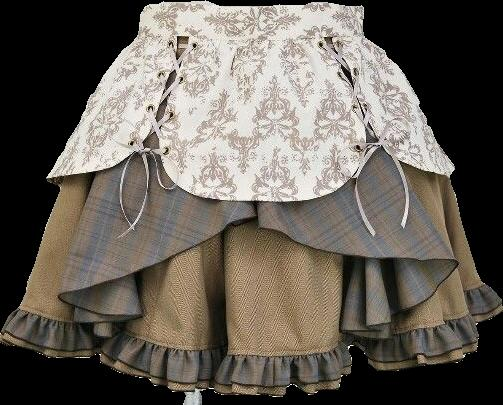Hemline: (0, 305, 502, 397), (159, 39, 368, 202), (45, 39, 181, 182), (335, 38, 457, 177)
Waistline: (135, 30, 364, 41), (141, 1, 362, 12)
